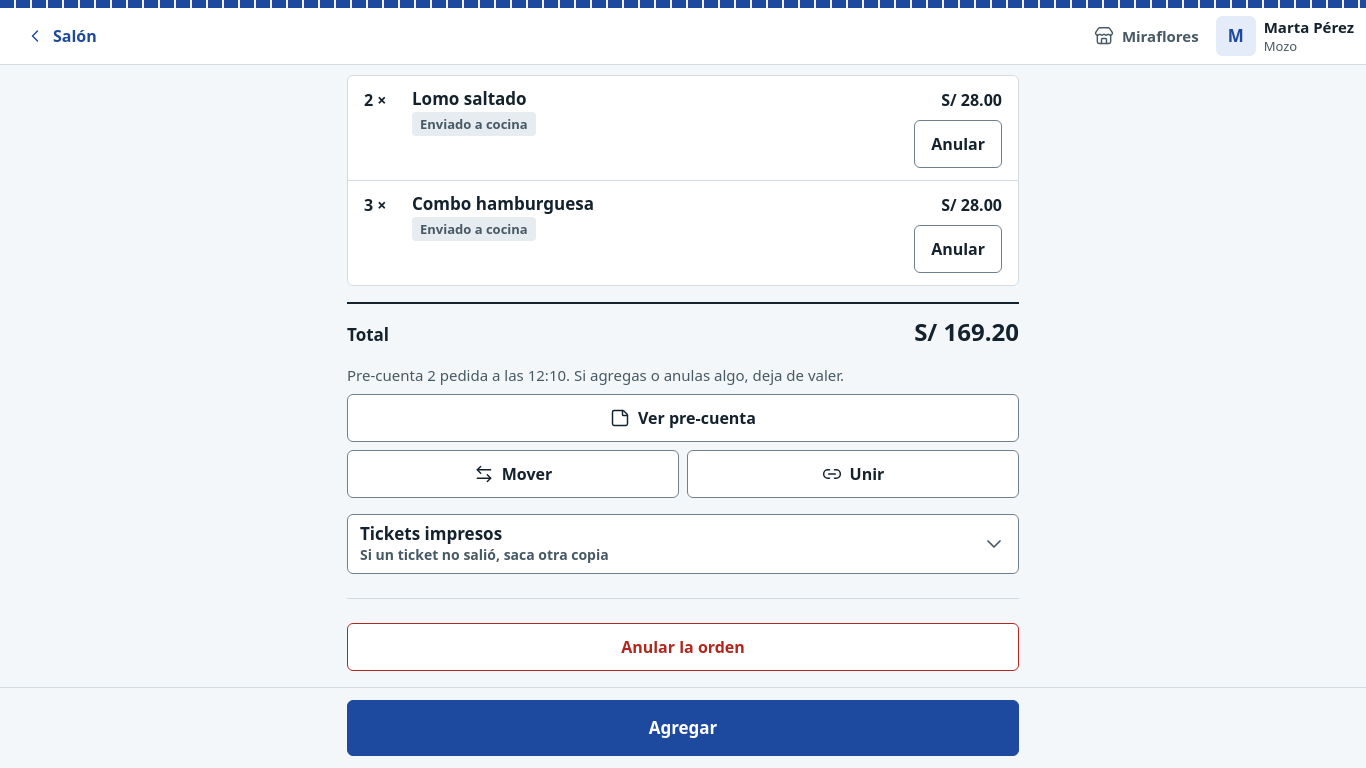
Scenario: Pedir la pre-cuenta (criterios 50 y 95) › una cuenta ya en pre-cuenta dice cuál es y vuelve a mostrar la vigente
The image size is (1366, 768).
(page scrolled)
Expected: the text "Pre-cuenta 2 pedida a las 12:10." is shown, top-left (347, 365), bottom-right (844, 385)
Click the button "Ver pre-cuenta". click: (683, 418)
box: top-left (347, 394), bottom-right (1019, 442)
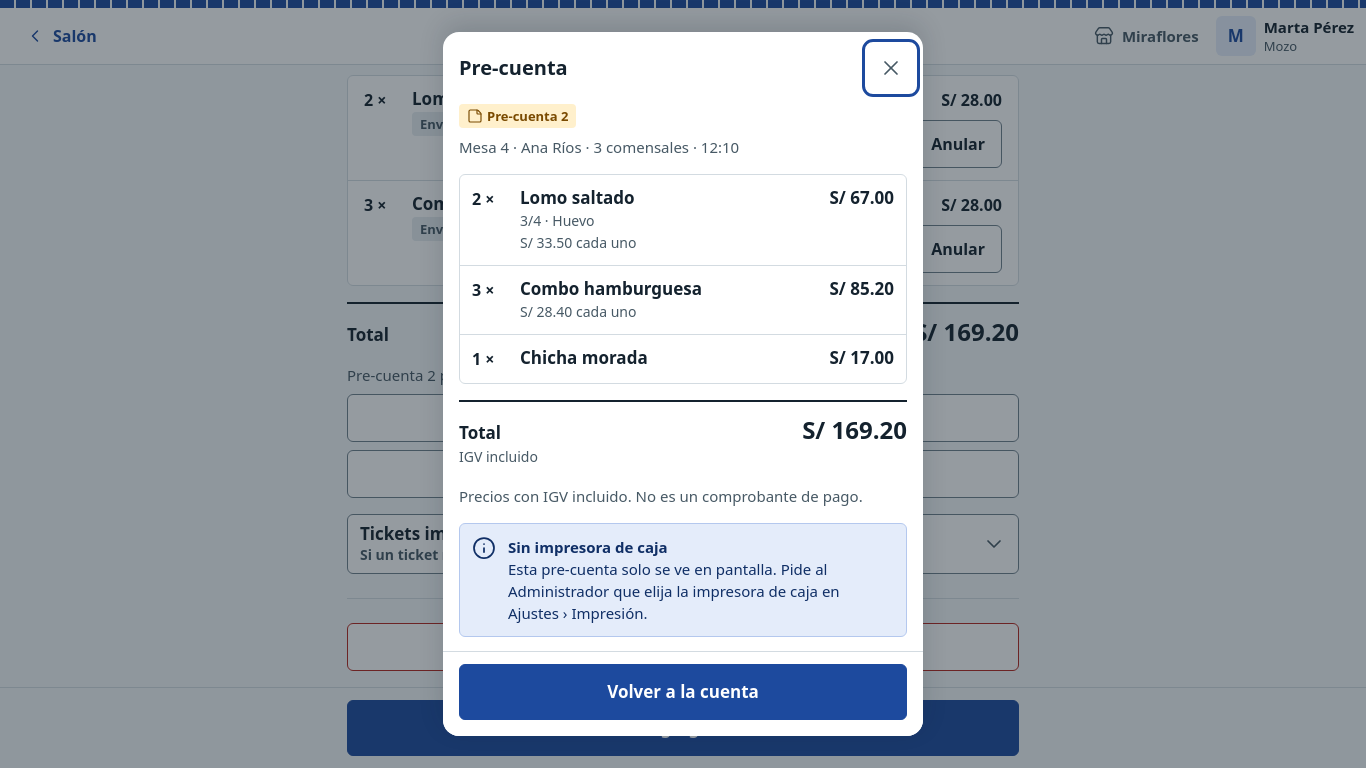
Expected: the dialog "Pre-cuenta" does not show "ya no vale", top-left (443, 32), bottom-right (923, 736)
Expected: the text "Pre-cuenta 2" is shown, top-left (459, 104), bottom-right (576, 128)
